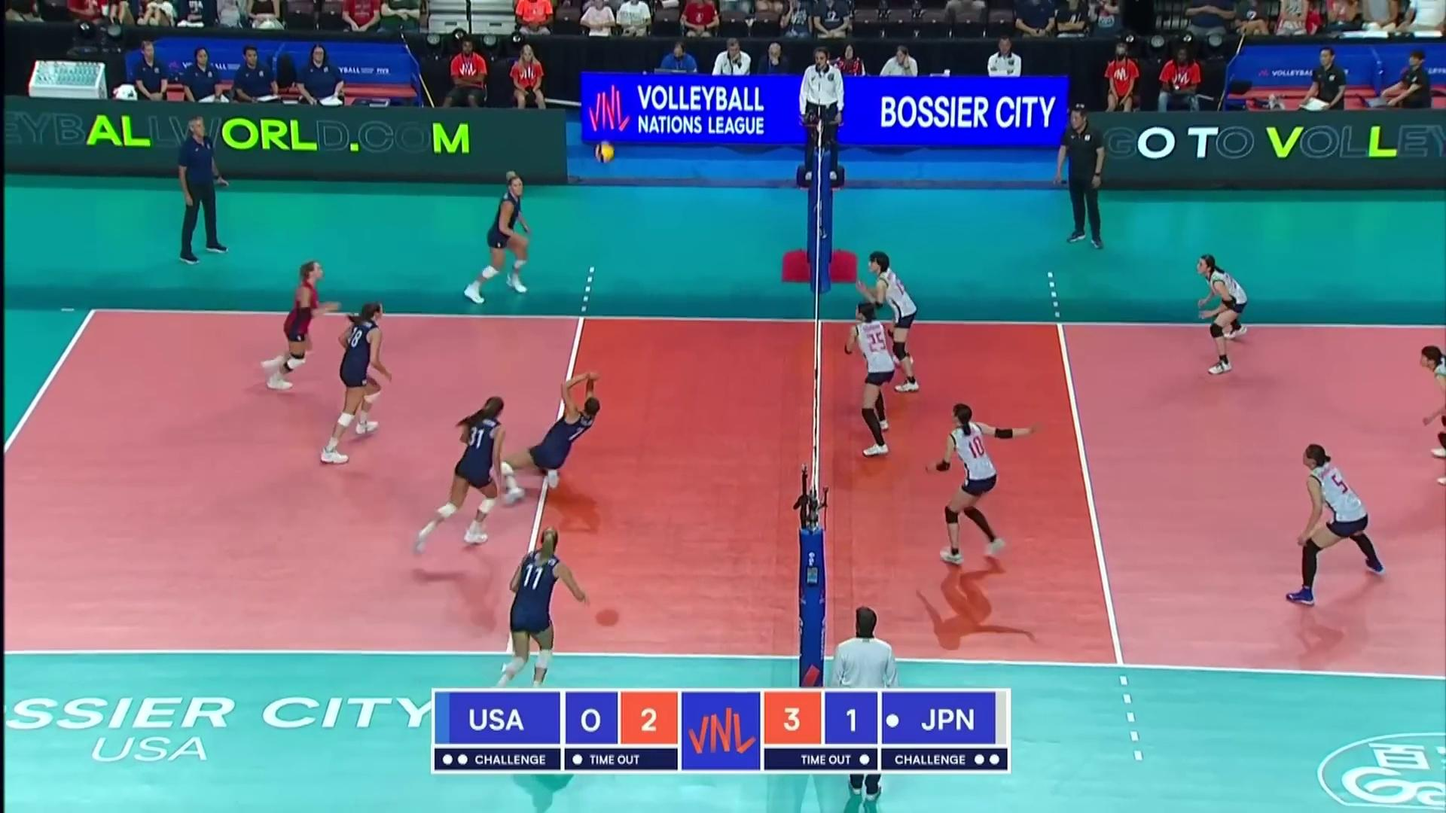player: (419, 396, 529, 560), (486, 529, 588, 695), (1286, 444, 1391, 602), (933, 404, 1032, 564), (496, 374, 604, 501), (321, 301, 397, 465), (261, 258, 344, 393), (461, 172, 534, 300), (855, 252, 921, 393), (846, 303, 901, 457), (1195, 254, 1250, 374), (1419, 339, 1446, 488)
refree: (828, 600, 896, 801), (796, 45, 846, 183)
